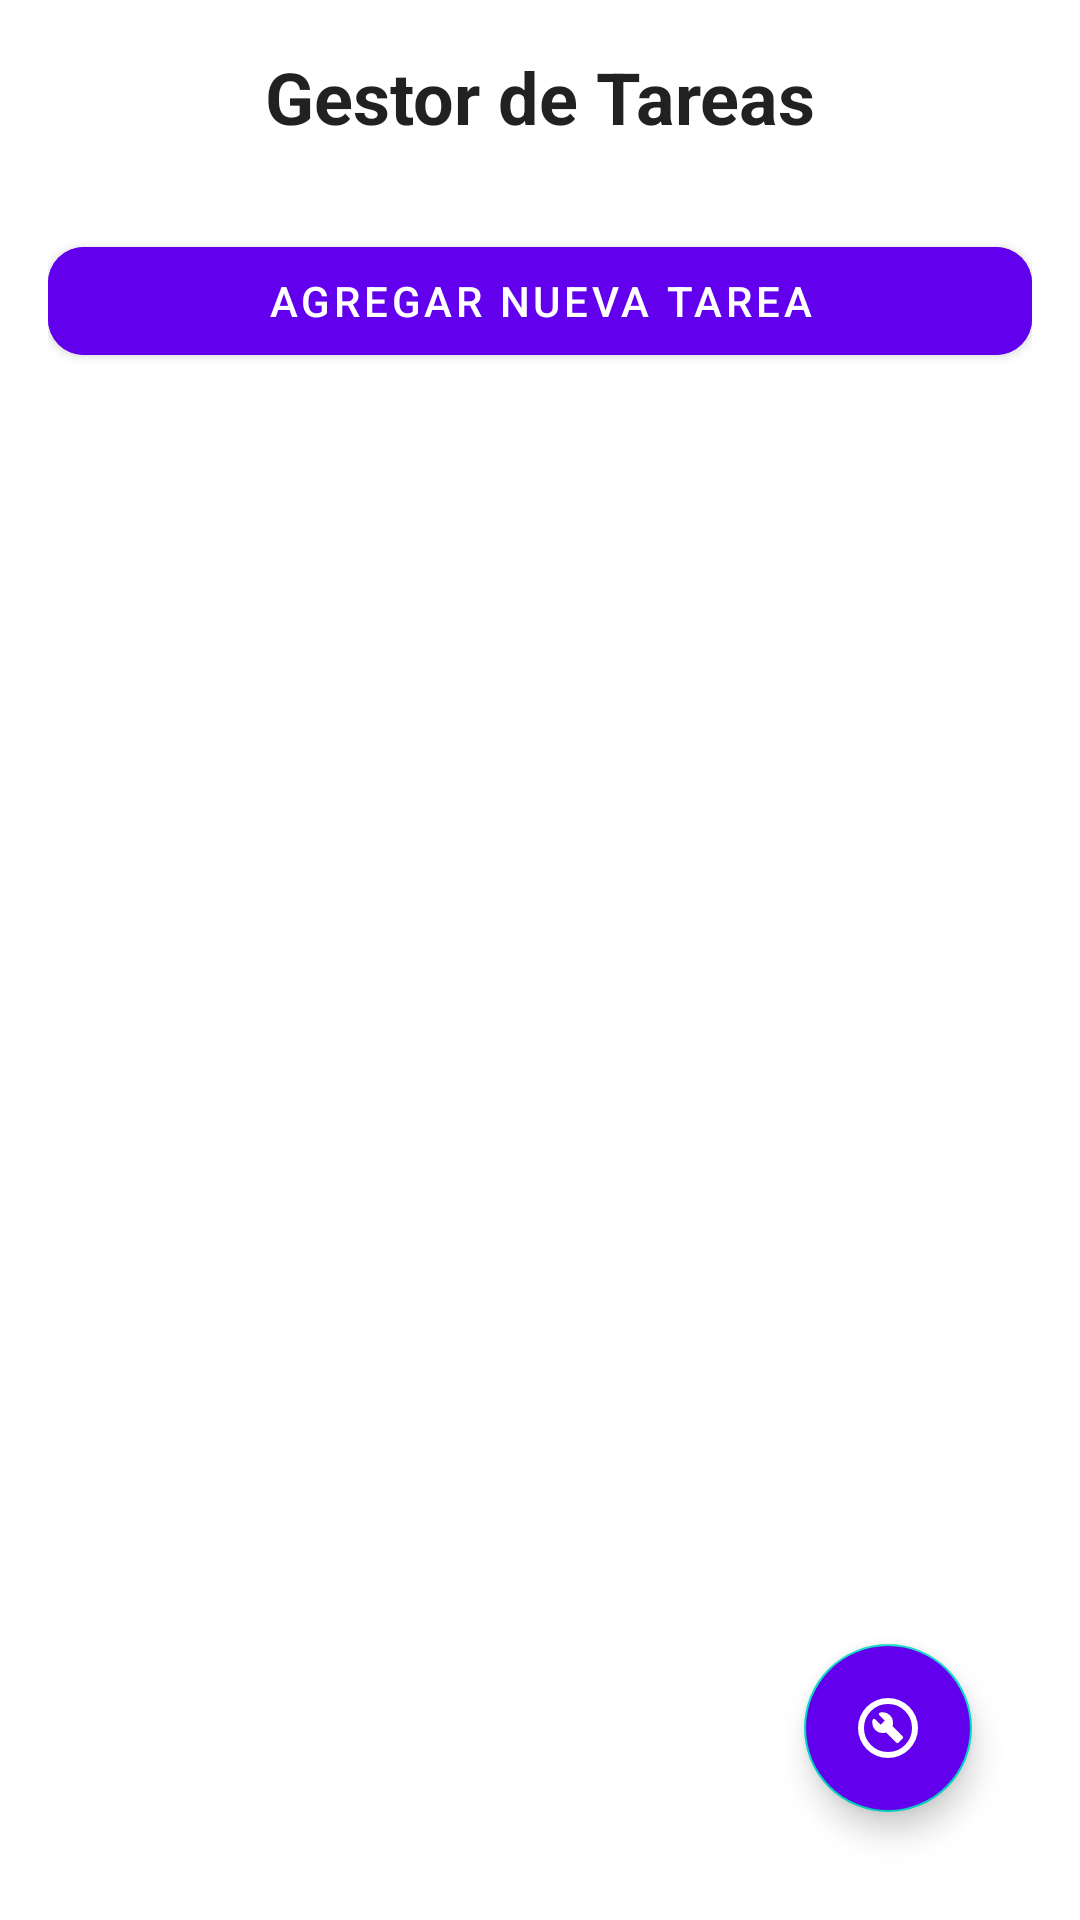

Point at icon controls on the screen. Image size 1080x1920, points as [x,y].
Configuración: [888,1728]
